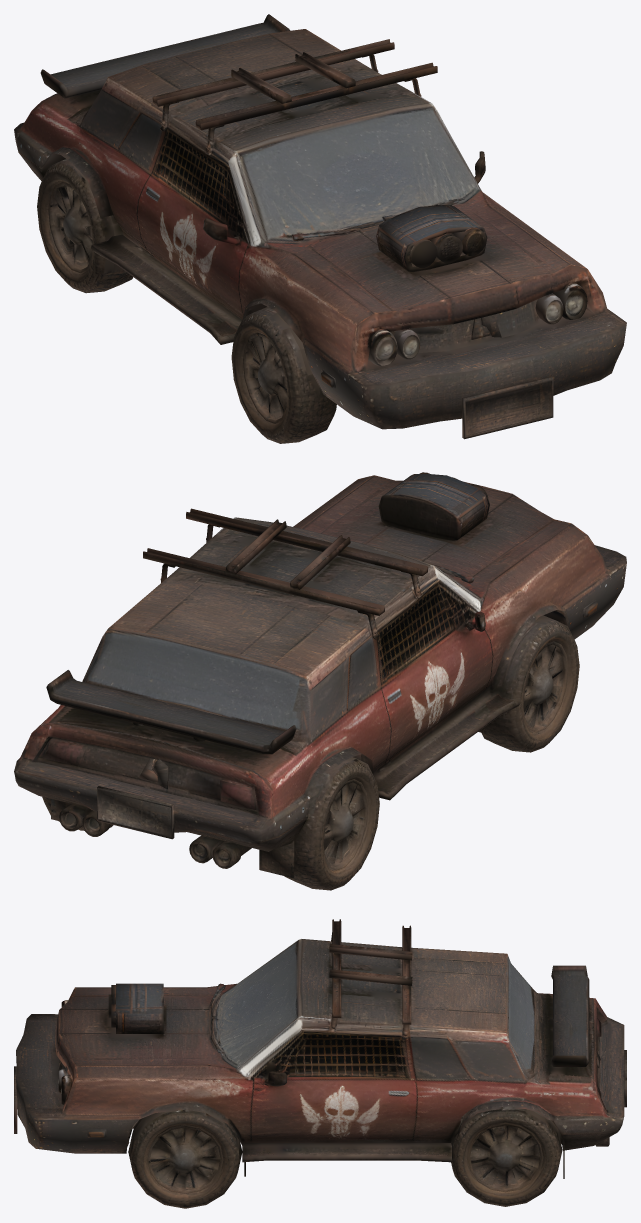
The model's file is Magnum.fbx.
The picture shows the model from 3 angles, top to bottom: view 1: azimuth 30°, elevation 25°; view 2: azimuth 150°, elevation 25°; view 3: azimuth 270°, elevation 25°; orthographic projection. The views are drawn at different scales.
Parts seen in each view (by area): view 1: Magnum, polySurface52, Wheel_FR, Wheel_RR, Side_Skirt_R, pCylinder6, Number_Plate_F, polySurface34, polySurface20, polySurface18, polySurface36, polySurface35 (+1 smaller); view 2: Magnum, polySurface52, pCylinder6, Wheel_FR, polySurface34, Wheel_RR, Side_Skirt_R, polySurface18, polySurface20, Number_Plate_R, pCube5; view 3: Magnum, Wheel_FL, Wheel_RL, polySurface16, polySurface16.001, Side_Skirt_L, pCylinder6, polySurface52, polySurface34, Wippers.
Part boxes in pixels (x1,y1,x2,y2): Magnum: (14, 29, 626, 429); polySurface52: (152, 39, 437, 155); Wheel_FR: (231, 307, 336, 443); Wheel_RR: (37, 159, 133, 293); Side_Skirt_R: (91, 234, 240, 344); pCylinder6: (40, 14, 290, 98); Number_Plate_F: (462, 376, 553, 439); polySurface34: (376, 205, 487, 271); polySurface20: (243, 332, 287, 423); polySurface18: (48, 182, 92, 273); polySurface36: (429, 233, 462, 263); polySurface35: (452, 227, 486, 255); Magnum: (14, 475, 626, 868); polySurface52: (143, 508, 427, 639); pCylinder6: (46, 670, 296, 754); Wheel_FR: (481, 615, 579, 752); polySurface34: (378, 474, 489, 540); Wheel_RR: (284, 757, 379, 890); Side_Skirt_R: (373, 689, 519, 800); polySurface18: (323, 779, 368, 870); polySurface20: (523, 641, 568, 732); Number_Plate_R: (97, 786, 174, 839); pCube5: (51, 728, 483, 878); Magnum: (16, 939, 624, 1153); Wheel_FL: (128, 1110, 242, 1208); Wheel_RL: (451, 1109, 562, 1206); polySurface16: (467, 1123, 543, 1192); polySurface16.001: (147, 1125, 223, 1193); Side_Skirt_L: (242, 1143, 451, 1162); pCylinder6: (551, 965, 589, 1066); polySurface52: (329, 919, 412, 1040); polySurface34: (116, 983, 163, 1033); Wippers: (210, 983, 225, 1056).
Size of the model in its own units: 2.03 by 1.64 by 4.43.
